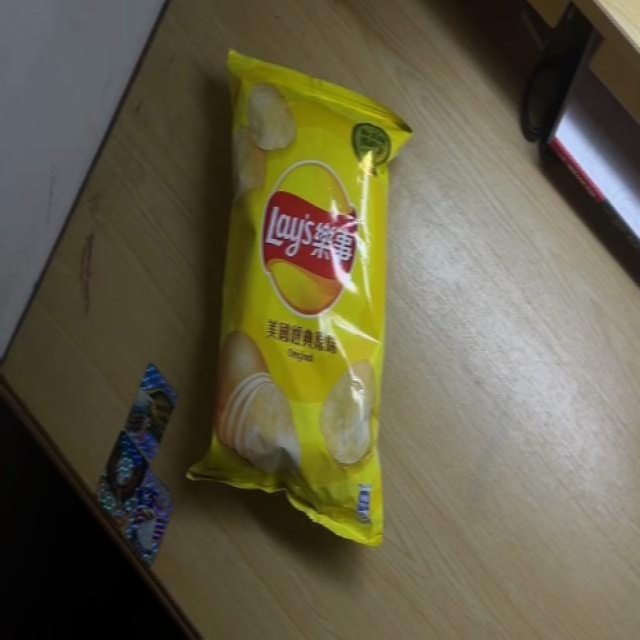Lay-s-original: (188, 49, 412, 548)
